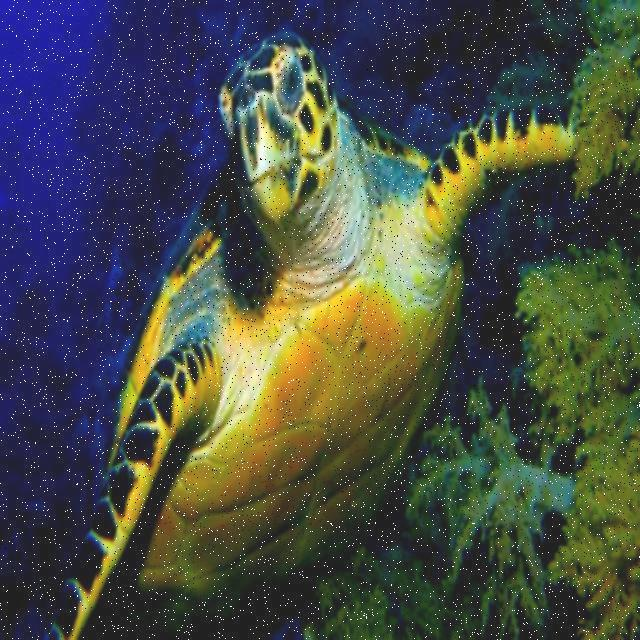tortoise: (40, 31, 588, 640)
